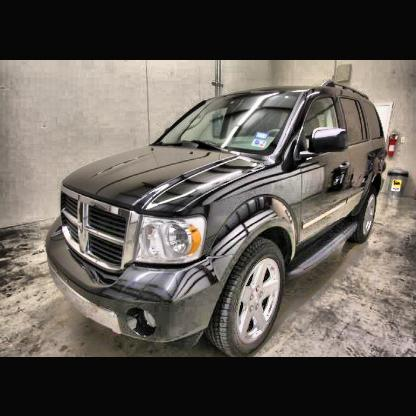Dodge Durango SUV 2007: (46, 82, 388, 357)
